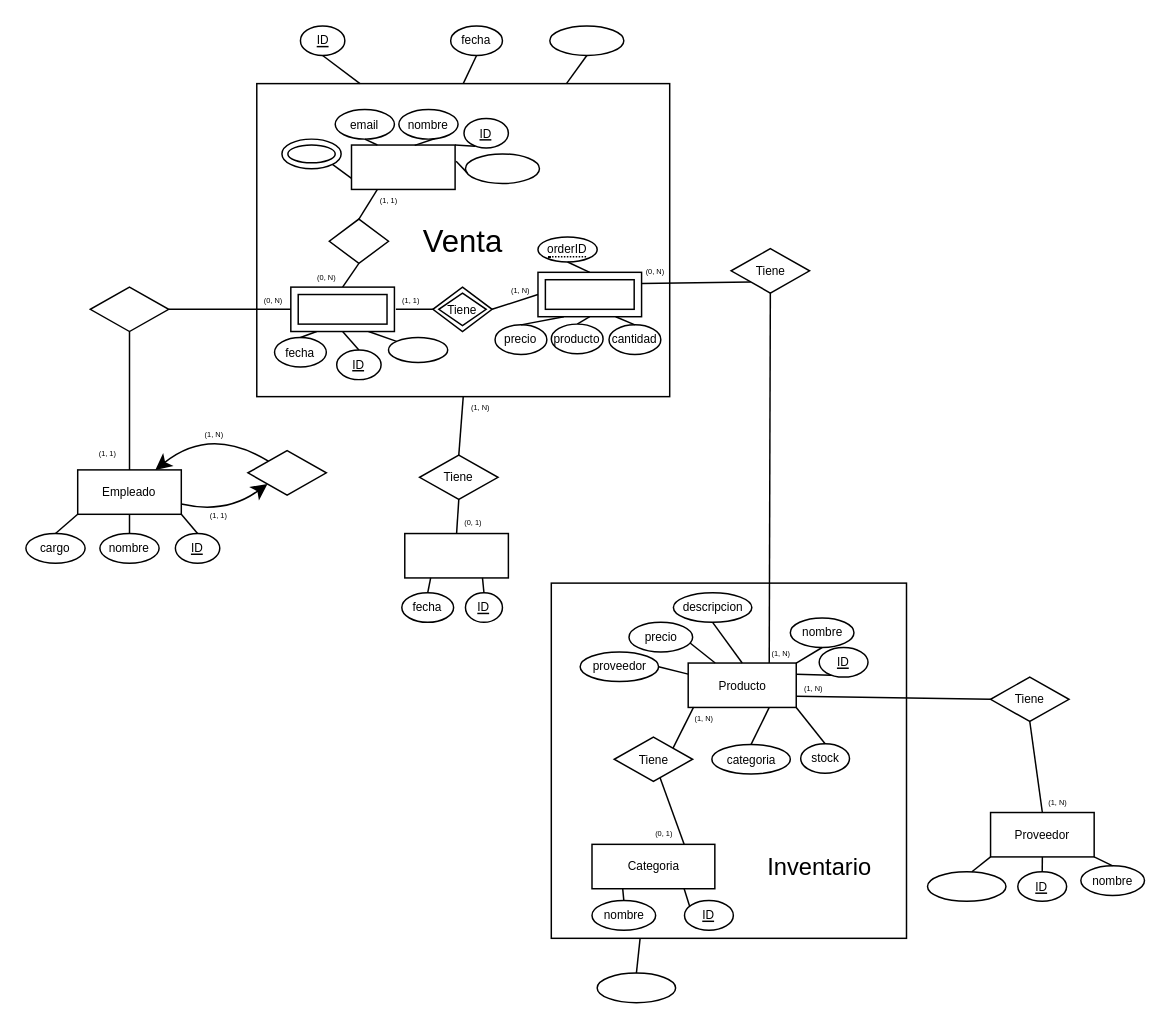
Some shapes in this 1171 by 1029 pixel diagram are drawn without their labels. The shapes that lost their labels are listed below. From the top down, each one's centre as x and y in pixels, then its label:
At (586,40): "ganancia".
At (310,153): "roles".
At (402,166): "Usuario".
At (501,168): "password".
At (358,240): "Crea".
At (129,309): "Procesa".
At (341,309): "Pedido".
At (589,294): "Detalle Pedido".
At (417,349): "userID".
At (286,472): "Jefe".
At (455,555): "Informe de venta".
At (966,885): "direccion".
At (636,987): "capacidad".
